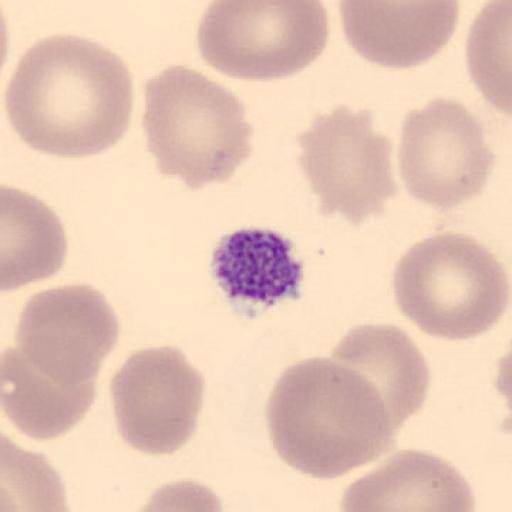Platelet: (207, 223, 308, 312)
RBC: (3, 280, 119, 442), (3, 32, 134, 162), (264, 356, 396, 482), (140, 62, 255, 192), (390, 229, 512, 342), (294, 102, 398, 228), (397, 94, 496, 212), (12, 281, 120, 388), (196, 0, 332, 83), (328, 321, 432, 429), (109, 343, 205, 458), (337, 445, 478, 512), (2, 345, 98, 442), (338, 1, 461, 71), (2, 183, 69, 292), (465, 0, 512, 117), (2, 434, 71, 512), (128, 476, 226, 512), (493, 347, 512, 409)
